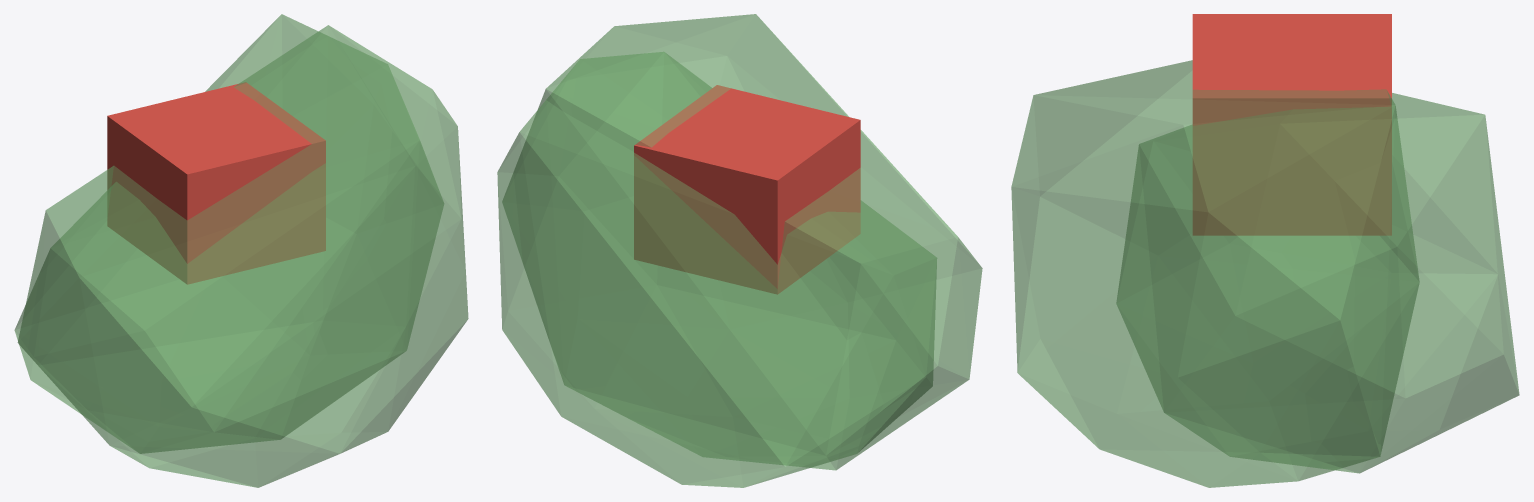
File: hrp2_trunk_body_view.dae
3 renders of one model, left to right at view 1: azimuth 30°, elevation 25°; view 2: azimuth 150°, elevation 25°; view 3: azimuth 270°, elevation 25°, orthographic. The views are drawn at different scales.
Visible parts, largest first — view 1: Hrp2_Rleg_Rom, Hrp2_Lleg_Rom, Hrp2_Trunk_Body; view 2: Hrp2_Rleg_Rom, Hrp2_Lleg_Rom, Hrp2_Trunk_Body; view 3: Hrp2_Rleg_Rom, Hrp2_Lleg_Rom, Hrp2_Trunk_Body.
Boxes of the visible parts, x1=… form: Hrp2_Rleg_Rom: x1=17, y1=25, x2=468, y2=487; Hrp2_Lleg_Rom: x1=14, y1=14, x2=443, y2=453; Hrp2_Trunk_Body: x1=107, y1=82, x2=325, y2=284; Hrp2_Rleg_Rom: x1=502, y1=14, x2=982, y2=470; Hrp2_Lleg_Rom: x1=497, y1=52, x2=936, y2=487; Hrp2_Trunk_Body: x1=634, y1=85, x2=860, y2=294; Hrp2_Rleg_Rom: x1=1011, y1=60, x2=1419, y2=487; Hrp2_Lleg_Rom: x1=1116, y1=93, x2=1519, y2=473; Hrp2_Trunk_Body: x1=1192, y1=14, x2=1391, y2=235.
Bounding box in the file's own units: 1.26 × 1.09 × 1.05.
